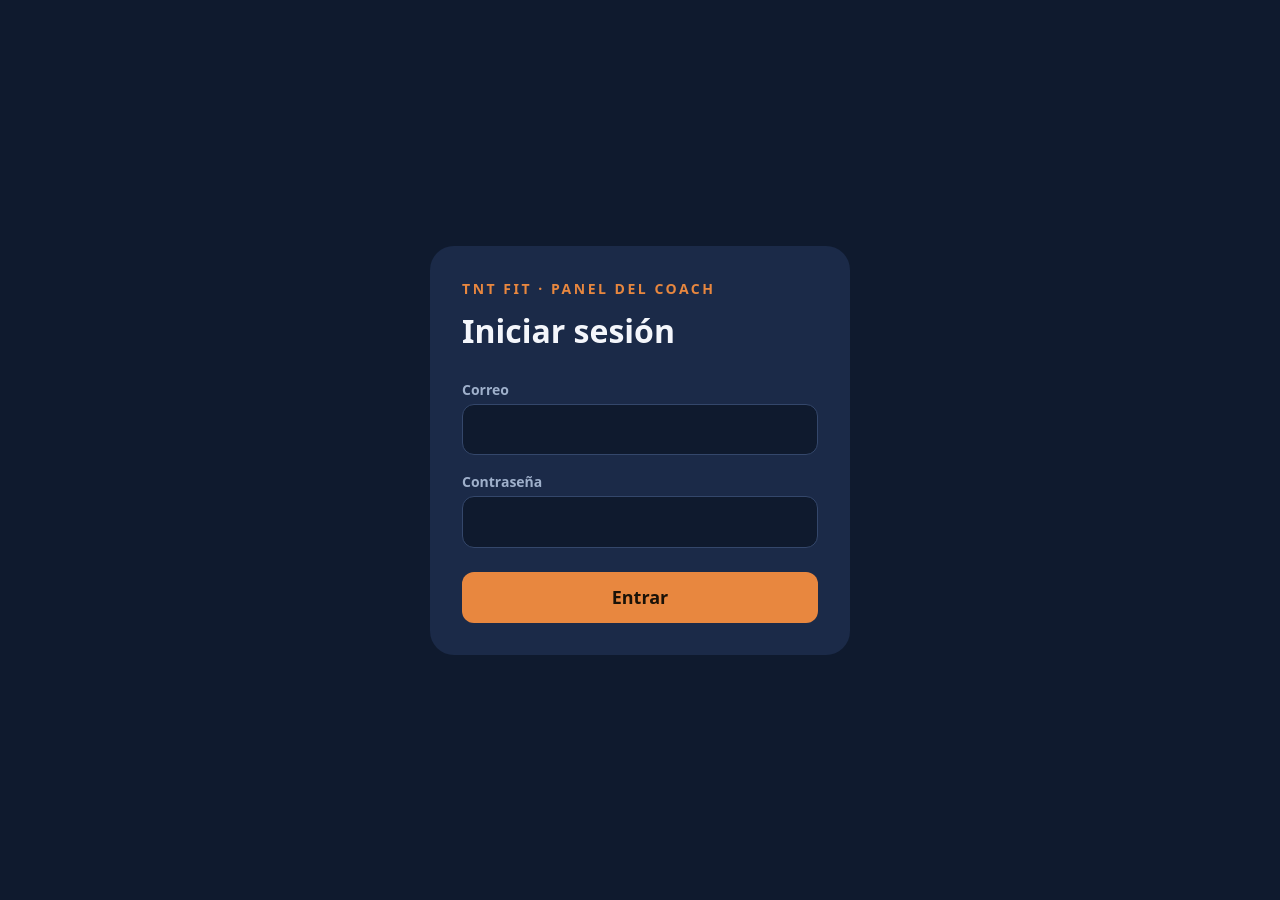
Test: roles › el admin ve el botón y al pulsarlo ejecuta el lote
Type "coach@tnt.demo" into the field labelled "Correo" at (640, 429), box left=462, top=404, right=818, bottom=455
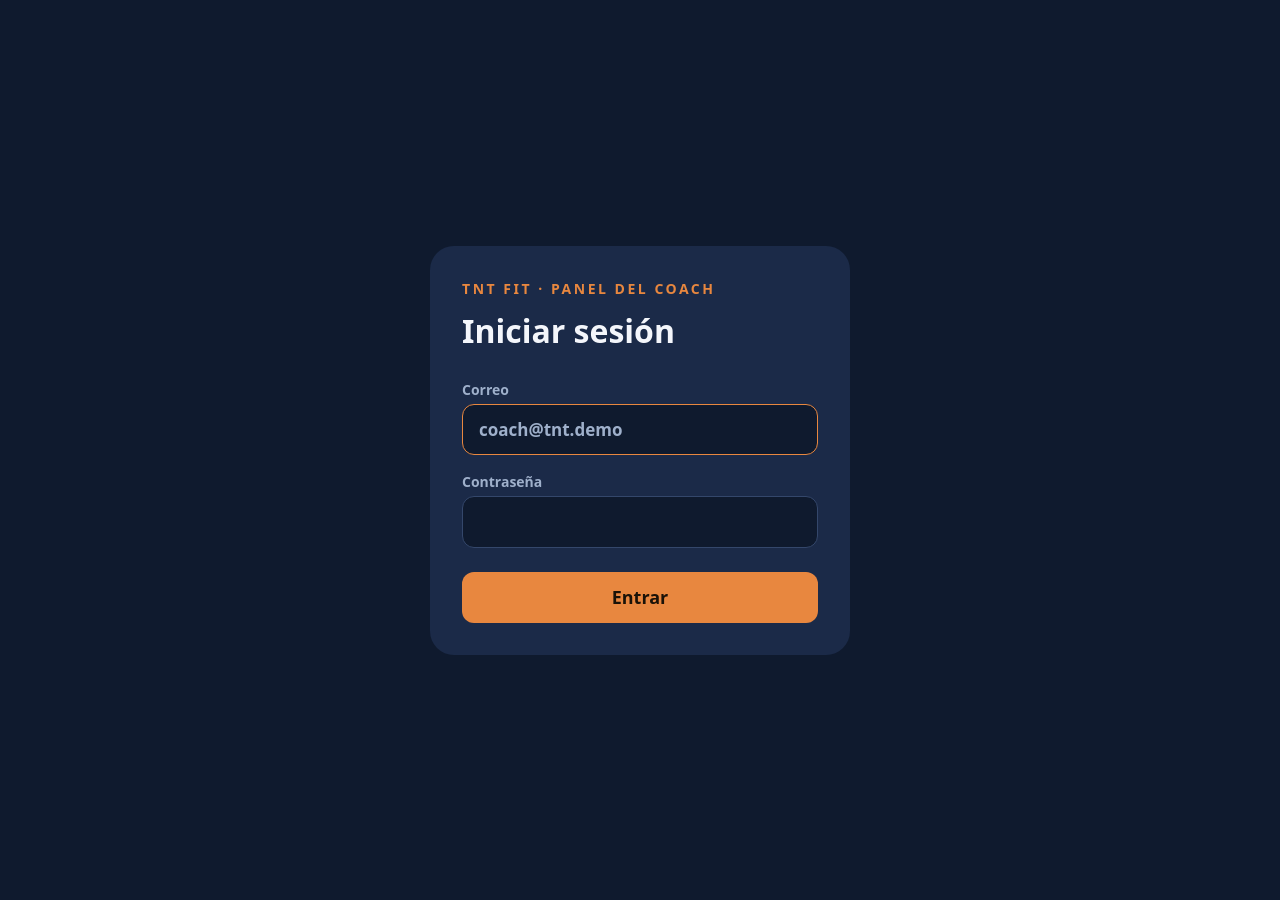
Type "bien" into the password field labelled "Contraseña" at (640, 522), box left=462, top=496, right=818, bottom=548
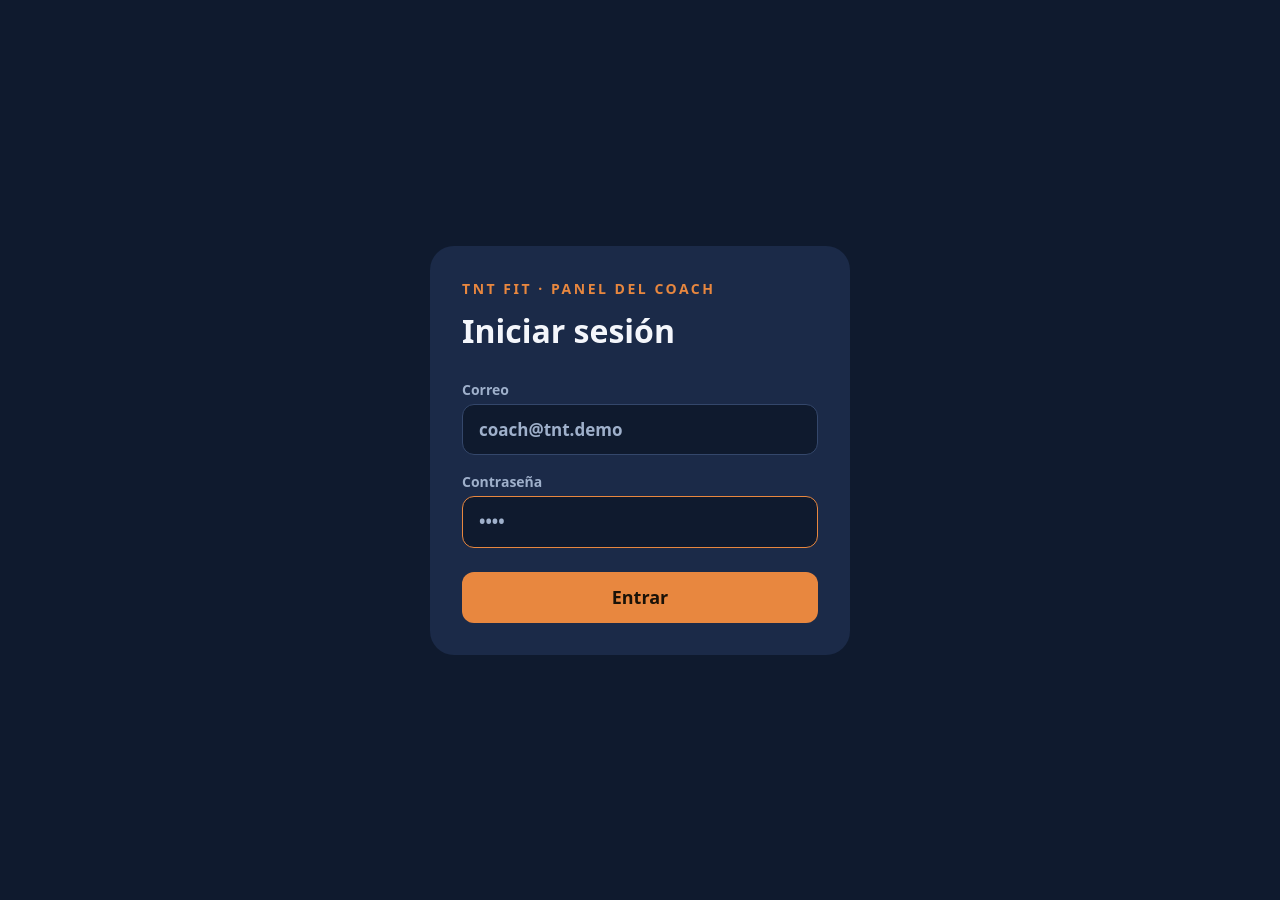
Click the button "Entrar" at (640, 597), box left=462, top=572, right=818, bottom=622
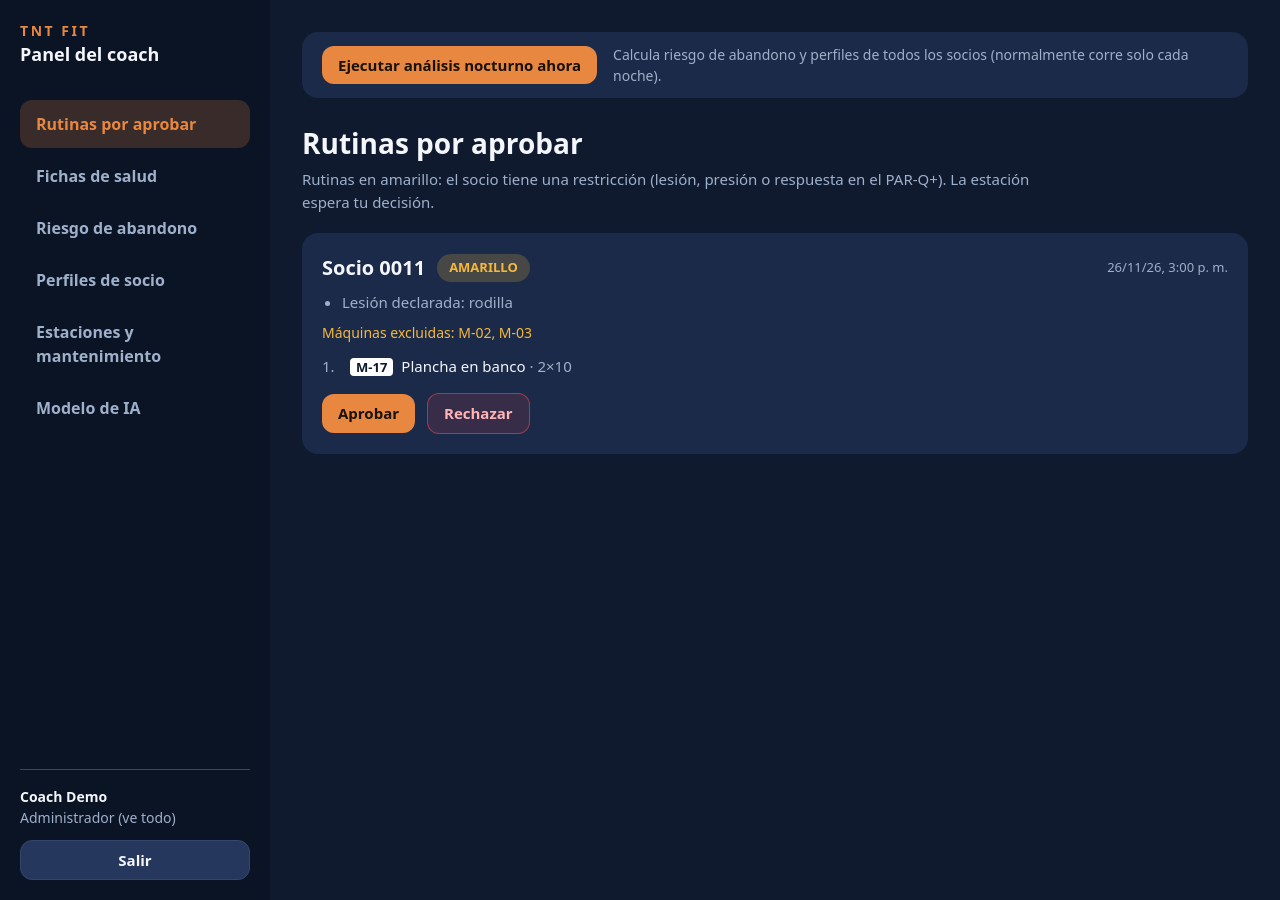
Click the button "Ejecutar análisis nocturno ahora" at (460, 65), box left=322, top=46, right=597, bottom=84
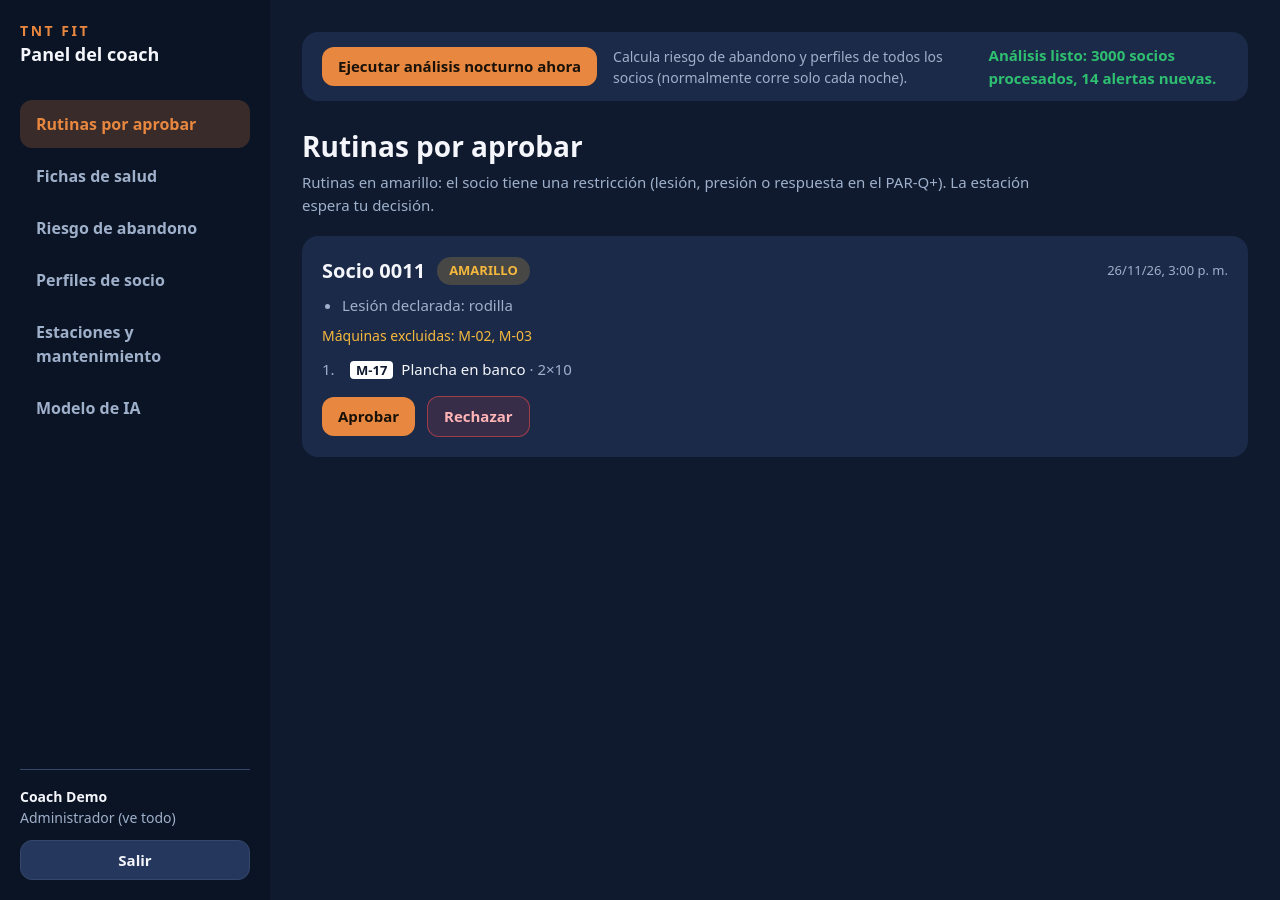
Now the text "Análisis listo: 3000 socios procesados, 14 alertas nuevas." is shown, box left=988, top=44, right=1228, bottom=89
